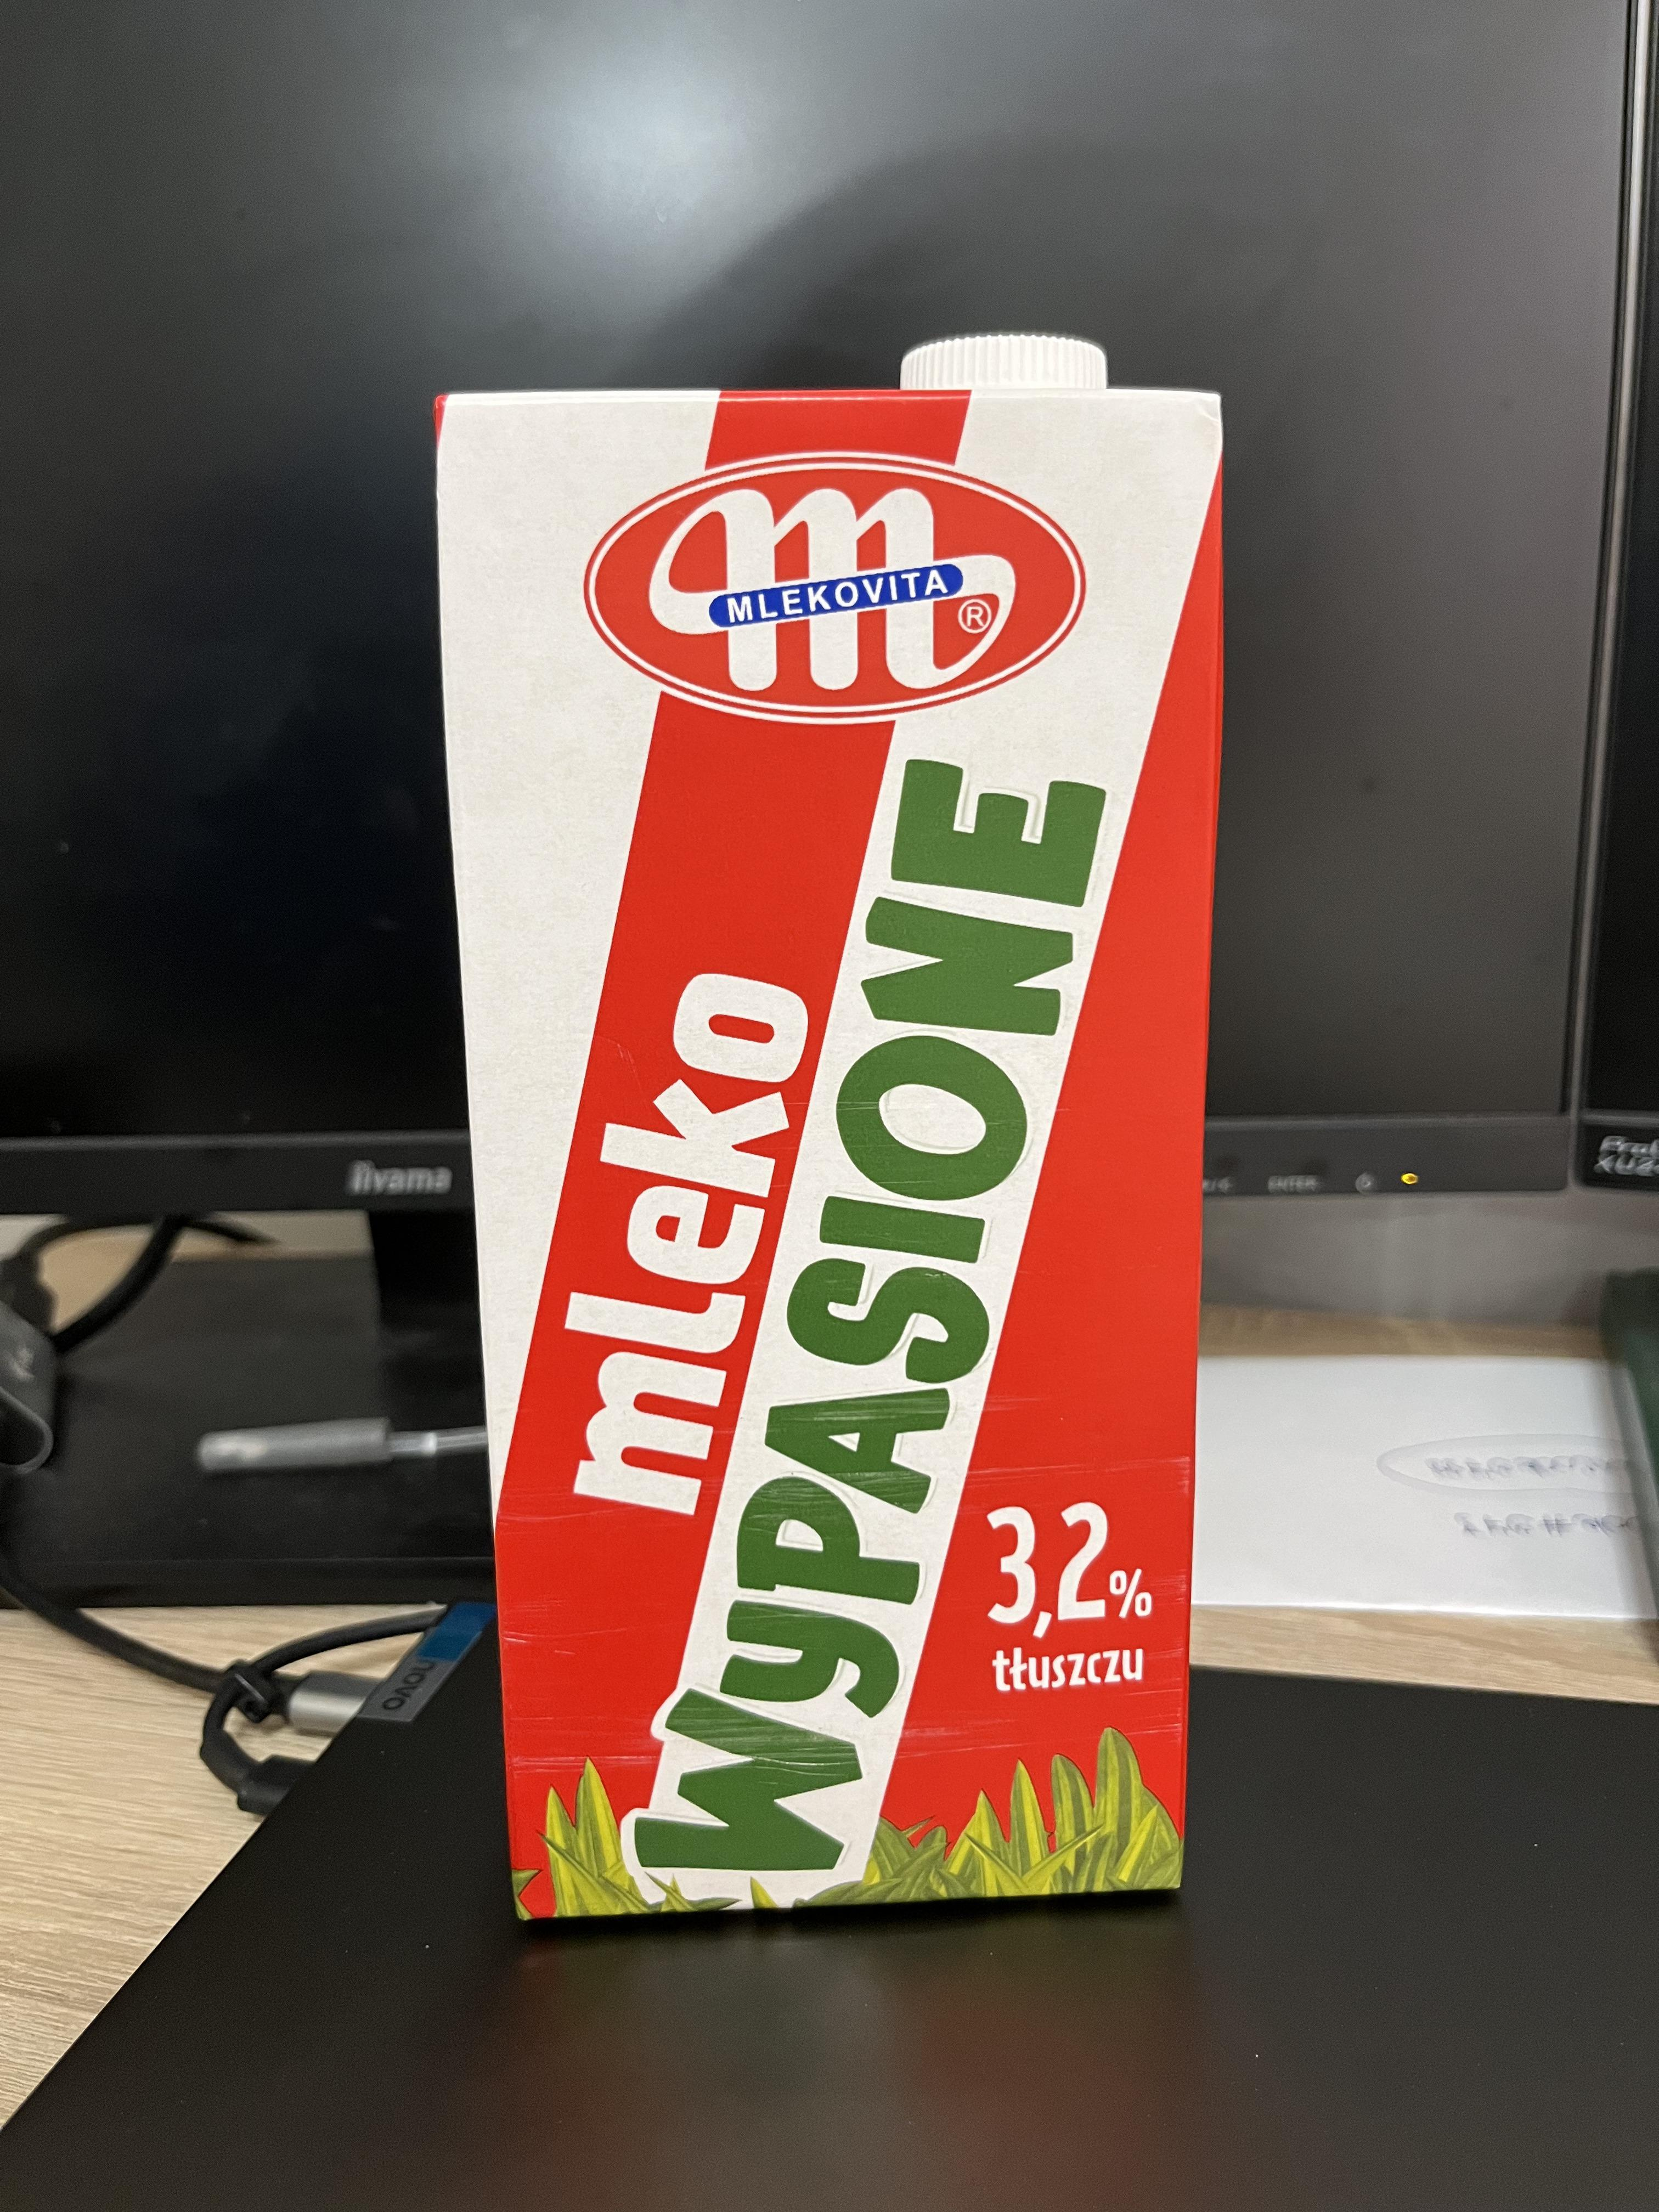Milk: (446, 376, 1216, 1923)
